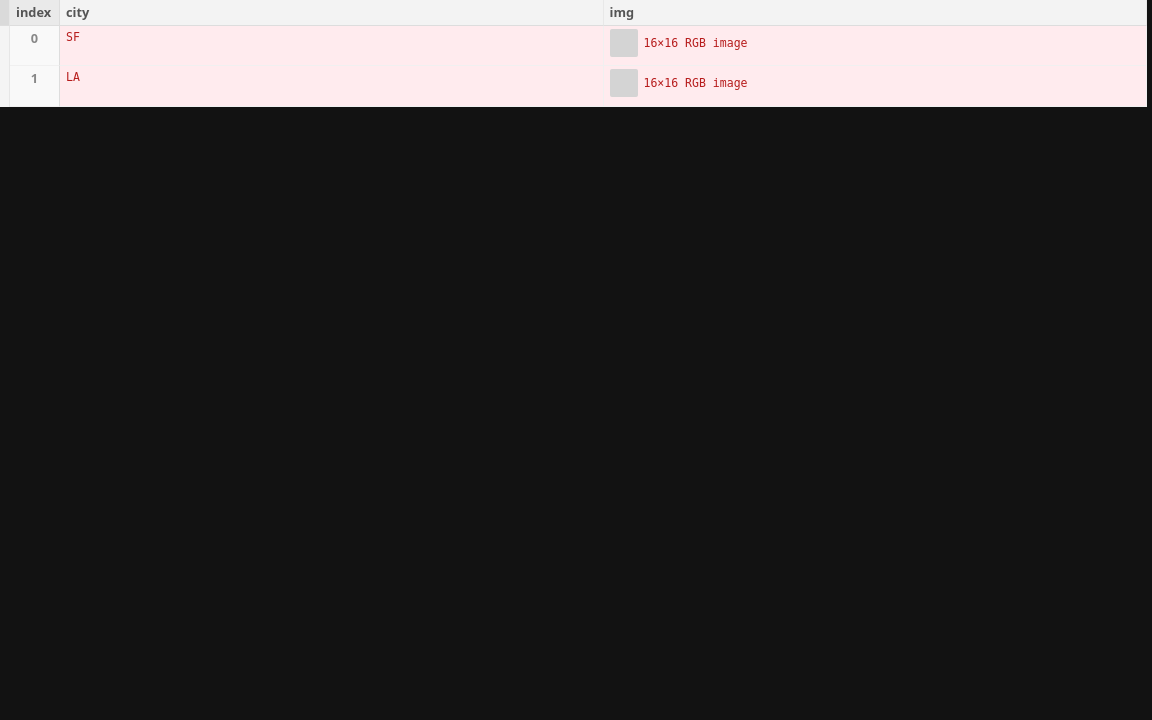
Test: typed cells in the grid › a click opens the cell in place, fetching that one cell, in the inspector
This screenshot has width=1152, height=720.
Step 1. Click the text "16×16 RGB image" in the row of "LA" → (696, 83), box [644,75,748,92]
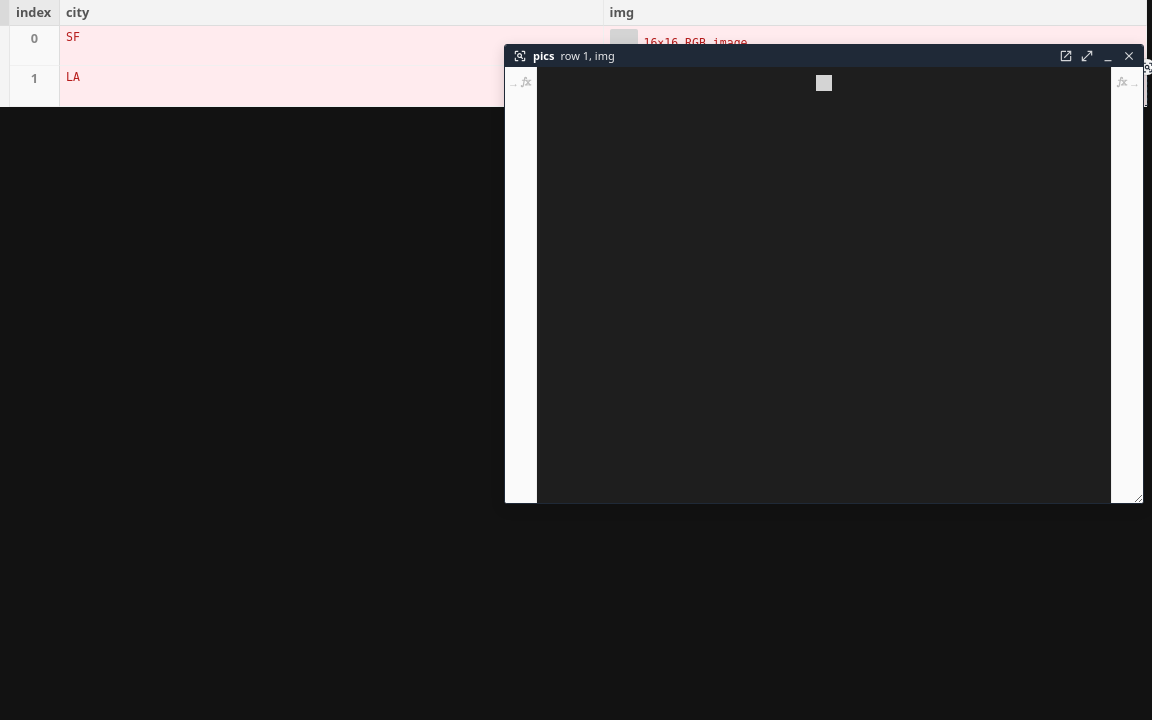
Expected: the element with class "cv-embedded" is shown, [537,68,1111,504]
Step 2. Click the button named "Close" → (1129, 56), box [1119,48,1139,66]
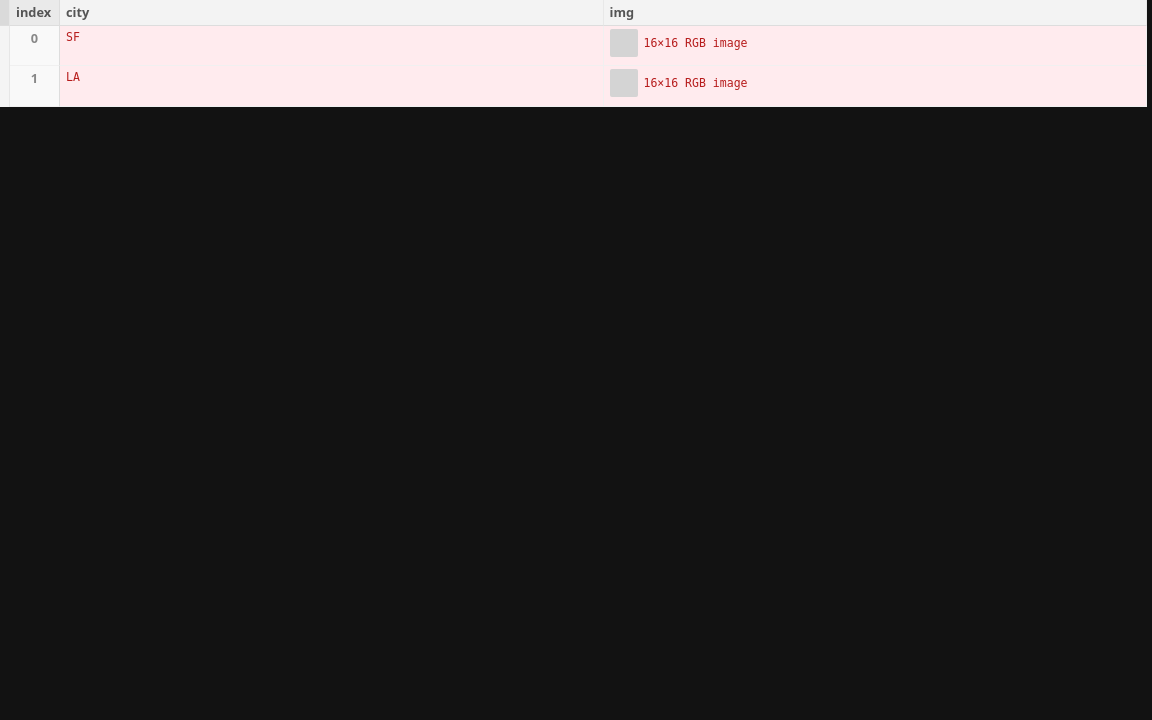
Expected: the dialog is gone
